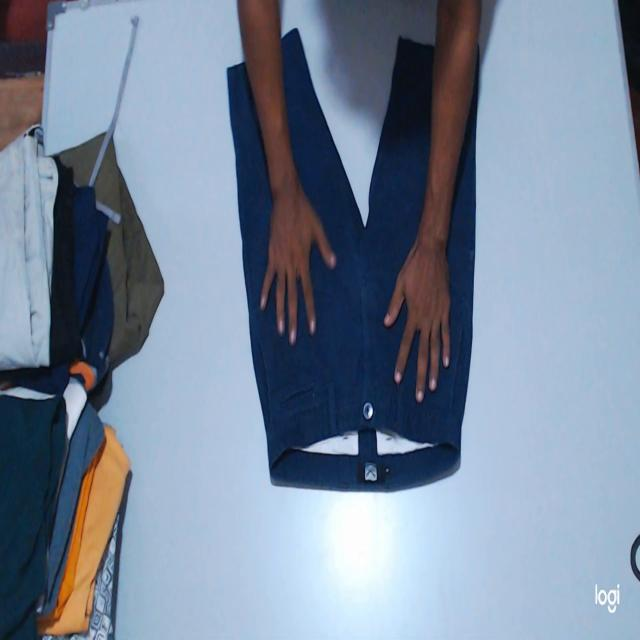new-garment: (227, 30, 477, 490)
